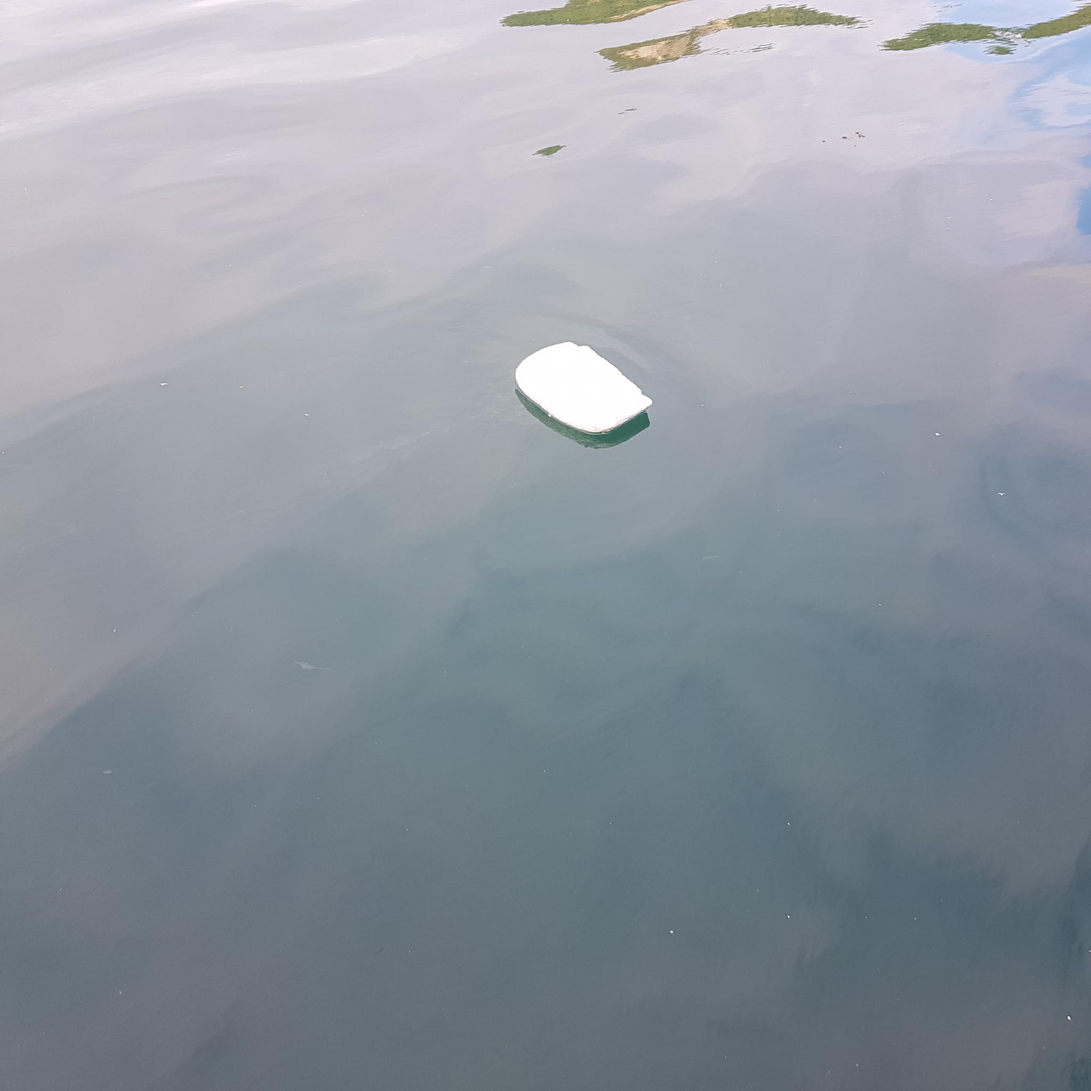sampah_terapung: (515, 341, 653, 433)
